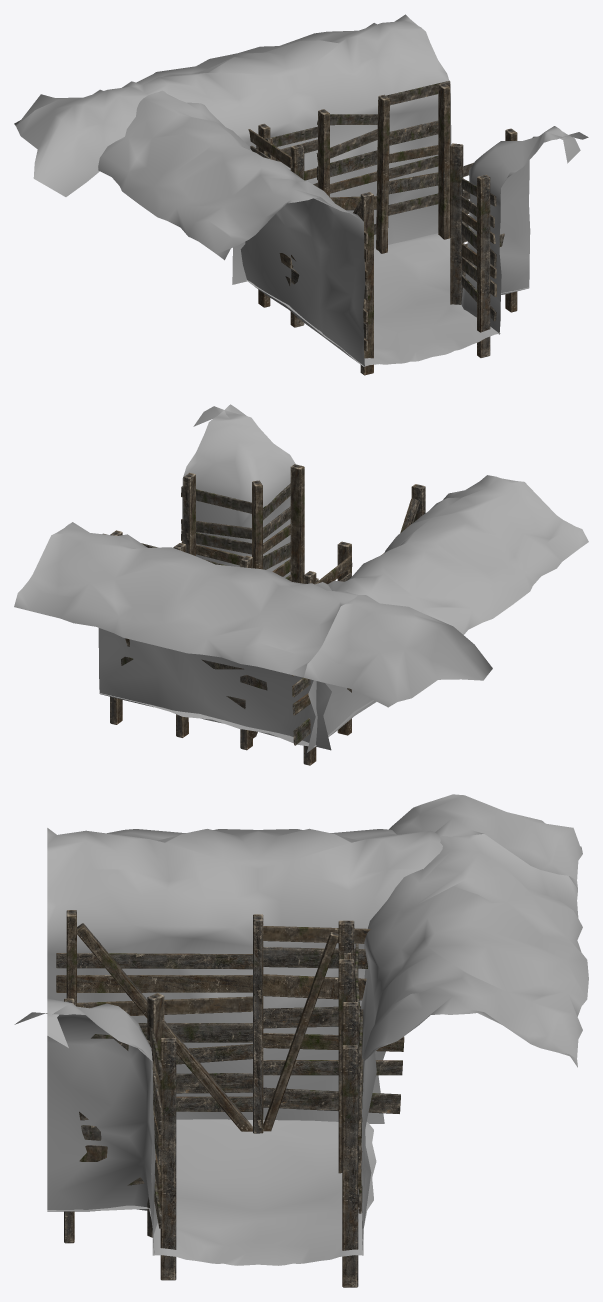
The model's file is Ground_90_Corner_Wood.fbx.
3 renders of one model, top to bottom at view 1: azimuth 30°, elevation 25°; view 2: azimuth 150°, elevation 25°; view 3: azimuth 270°, elevation 25°, orthographic. The views are drawn at different scales.
Visible parts, largest first — view 1: Ground_90_Corner_Wood_LOD0; view 2: Ground_90_Corner_Wood_LOD0; view 3: Ground_90_Corner_Wood_LOD0.
Part boxes in pixels (x1,y1,x2,y2): Ground_90_Corner_Wood_LOD0: (14,14,588,375); Ground_90_Corner_Wood_LOD0: (14,404,588,765); Ground_90_Corner_Wood_LOD0: (14,794,588,1287).
Size of what is drawn, in the model's own units: 6.01 by 2.94 by 5.45.
